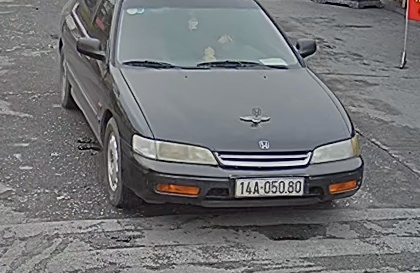vehicle plate: (230, 173, 309, 199)
